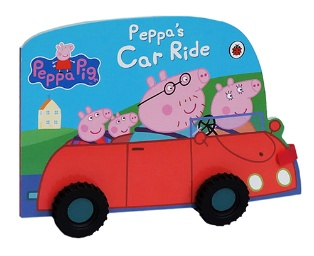Peppa: (76, 106, 114, 148)
